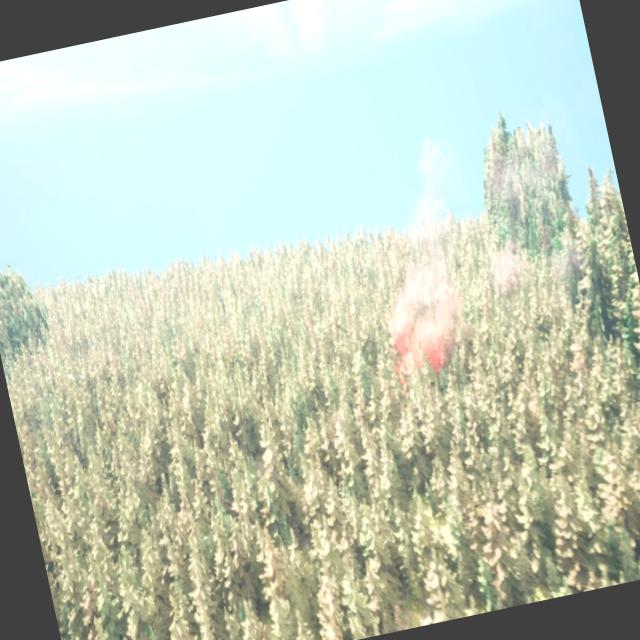fire: (384, 313, 448, 384)
smoke: (357, 123, 500, 366)
